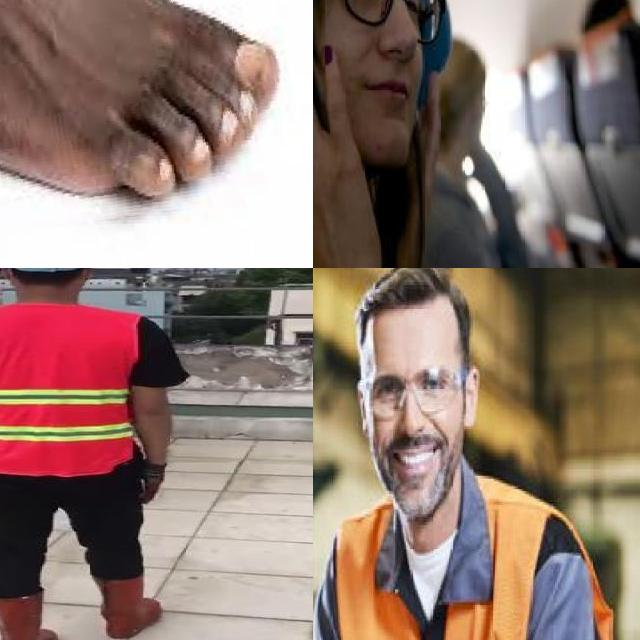Barefoots: (0, 0, 283, 257)
No_Ear-Protection: (457, 367, 484, 435), (349, 377, 371, 447)
boots: (93, 576, 162, 640), (0, 595, 59, 640)
face_nomask: (330, 0, 432, 122), (374, 393, 464, 520)
glasses: (313, 0, 443, 49), (371, 366, 462, 419)
hand_glove: (138, 458, 165, 504)
hand_noglove: (313, 29, 386, 268)
head_nohelmet: (356, 268, 470, 365)
person: (0, 268, 208, 640), (313, 0, 468, 268)
vest: (0, 308, 138, 476)
